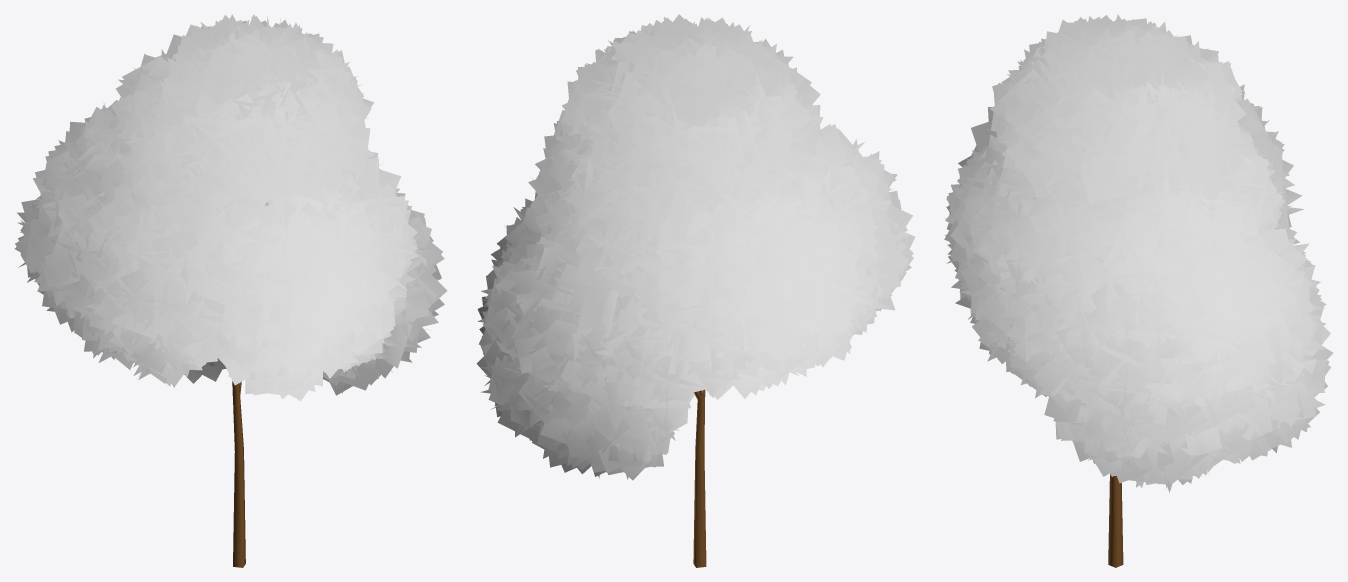
The model's file is TREE 1.fbx.
The picture shows the model from 3 angles, left to right: view 1: azimuth 30°, elevation 25°; view 2: azimuth 150°, elevation 25°; view 3: azimuth 270°, elevation 25°; orthographic projection.
Parts seen in each view (by area): view 1: Trunk; view 2: Trunk; view 3: Trunk.
Part boxes in pixels (x1,y1,x2,y2): Trunk: (14, 14, 447, 567); Trunk: (476, 14, 915, 567); Trunk: (944, 14, 1333, 567).
Bounding box in the file's own units: 3.69 × 5 × 3.26.
